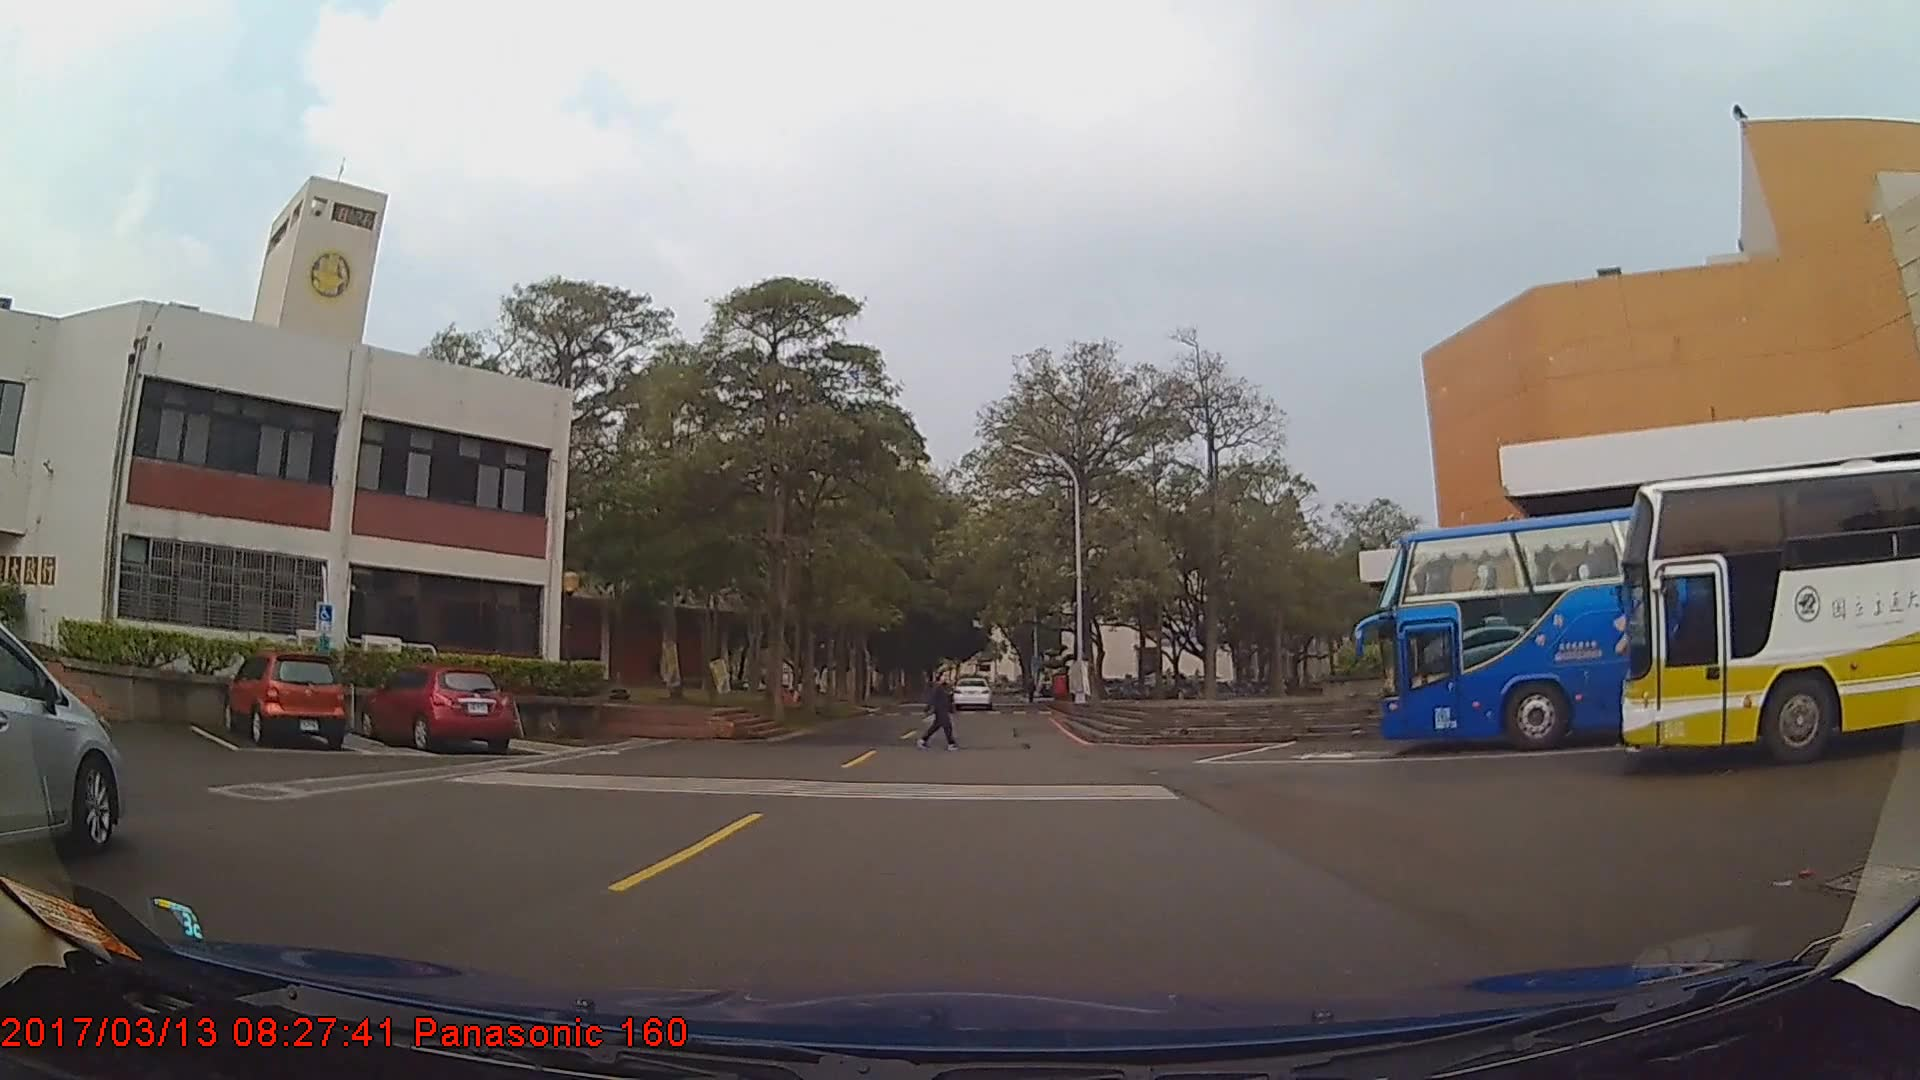pedestrian: (923, 666, 959, 750)
vehicle: (1382, 484, 1920, 753), (1623, 454, 1920, 767), (2, 632, 126, 864), (356, 666, 511, 753), (219, 651, 344, 752), (950, 675, 994, 712)
